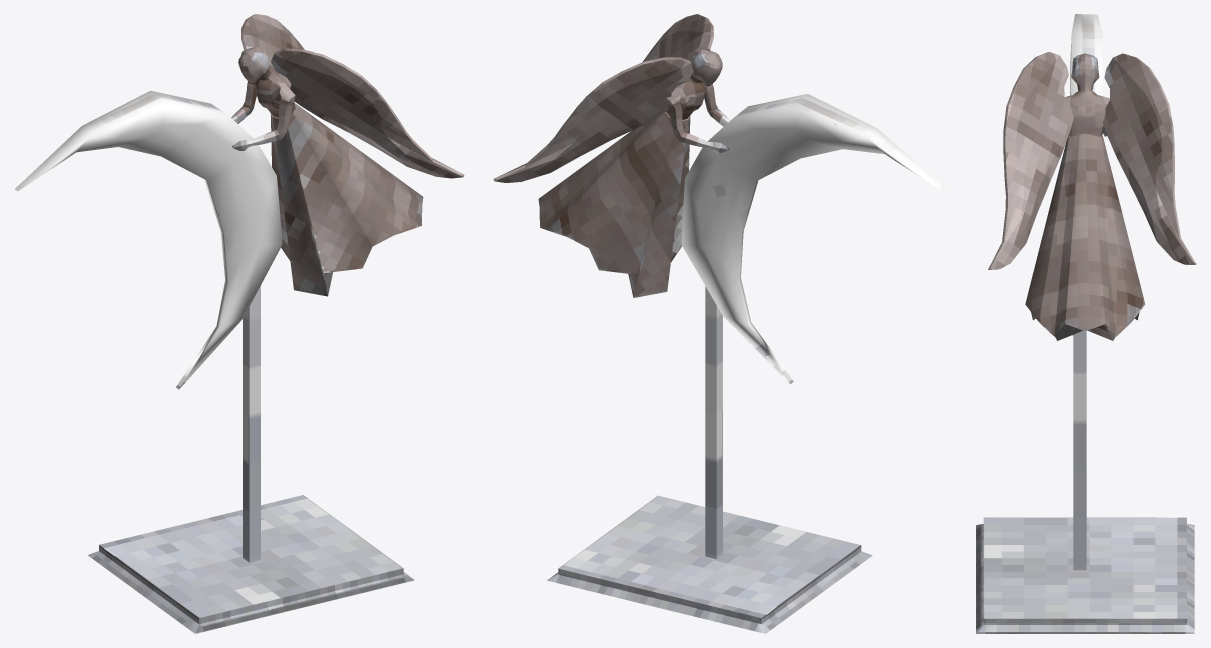
The model's file is estatua03.glb.
3 views of the same model, side by side, from view 1: azimuth 30°, elevation 25°; view 2: azimuth 150°, elevation 25°; view 3: azimuth 270°, elevation 25° (orthographic).
Parts seen in each view (by area): view 1: base_low, anjo_low, lua_low, asaAnjo_low, suporte_low; view 2: base_low, anjo_low, lua_low, asaAnjo_low, suporte_low; view 3: base_low, asaAnjo_low, anjo_low, suporte_low, lua_low.
Part boxes in pixels (x1,y1,x2,y2): base_low: (87,495,414,633); anjo_low: (231,46,423,296); lua_low: (14,90,282,389); asaAnjo_low: (241,14,464,178); suporte_low: (243,286,260,562); base_low: (547,495,872,633); anjo_low: (538,49,730,297); lua_low: (681,94,947,384); asaAnjo_low: (493,14,713,182); suporte_low: (705,286,722,558); base_low: (976,517,1194,633); asaAnjo_low: (988,52,1196,269); anjo_low: (1025,53,1145,340); suporte_low: (1073,330,1086,570); lua_low: (1070,14,1103,335).
Size of the model in its own units: 0.5623 by 0.6961 by 0.2597.
5 materials, 5 textured.
